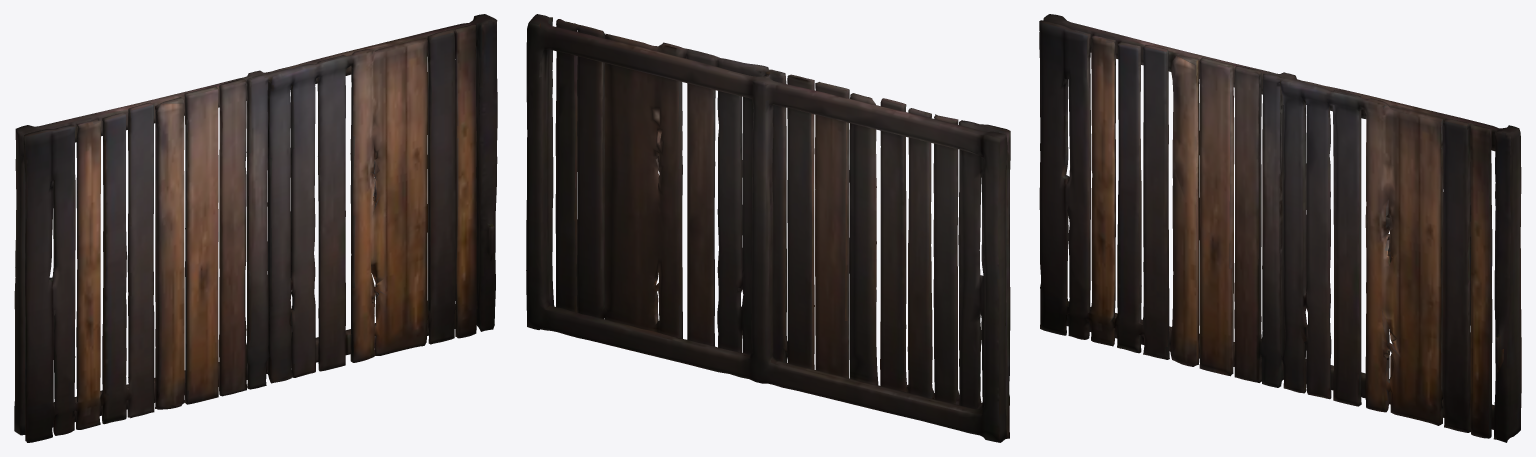
Rendered from woodwall1.glb.
3 renders of one model, left to right at view 1: azimuth 30°, elevation 25°; view 2: azimuth 150°, elevation 25°; view 3: azimuth 330°, elevation 25°, orthographic.
Bounding box in the file's own units: 2 × 1.25 × 0.1208.
Materials: 1 (1 with a texture image).
